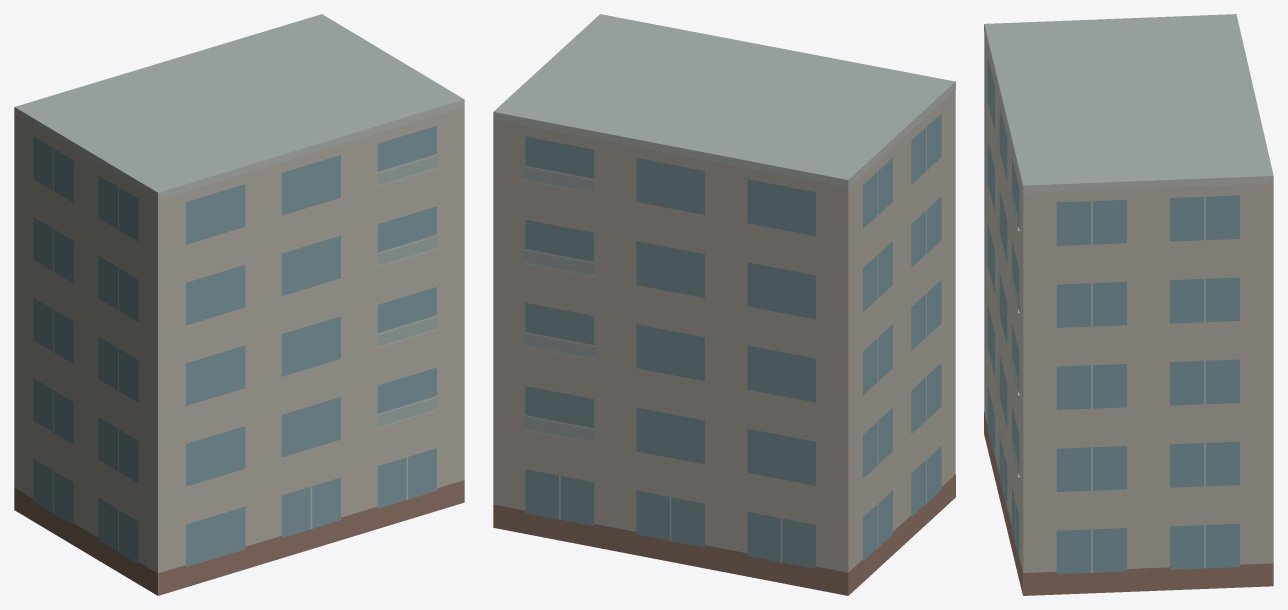
The model's file is survey-upis-32649828.glb.
3 views of the same model, side by side, from view 1: azimuth 30°, elevation 25°; view 2: azimuth 150°, elevation 25°; view 3: azimuth 270°, elevation 25° (orthographic). The views are drawn at different scales.
Visible parts, largest first — view 1: survey-upis-32649828.tmp; view 2: survey-upis-32649828.tmp; view 3: survey-upis-32649828.tmp.
Part boxes in pixels (left/top/right/bottom): survey-upis-32649828.tmp: left=14, top=14, right=464, bottom=595; survey-upis-32649828.tmp: left=493, top=14, right=955, bottom=595; survey-upis-32649828.tmp: left=984, top=14, right=1273, bottom=595.
Bounding box in the file's own units: 11.72 × 13.06 × 8.36.
